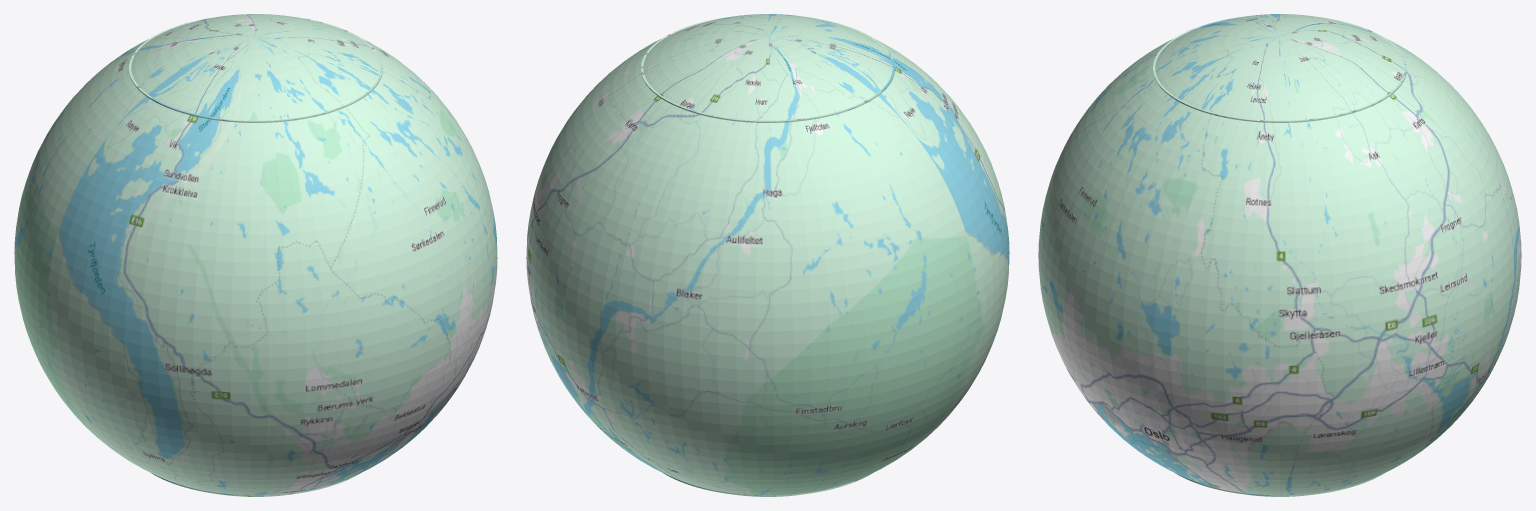
Rendered from RomerikeMap2WrappedSpherical.glb.
3 renders of one model, left to right at view 1: azimuth 30°, elevation 25°; view 2: azimuth 150°, elevation 25°; view 3: azimuth 270°, elevation 25°, orthographic.
Parts seen in each view (by area): view 1: Sphere, Cylinder; view 2: Sphere, Cylinder; view 3: Sphere, Cylinder.
Boxes of the visible parts, bbox=[...] form: Sphere: bbox=[14, 14, 497, 496]; Cylinder: bbox=[129, 16, 382, 496]; Sphere: bbox=[526, 14, 1009, 496]; Cylinder: bbox=[641, 16, 894, 496]; Sphere: bbox=[1038, 14, 1521, 496]; Cylinder: bbox=[1153, 17, 1406, 496].
Size of the model in its own units: 16.79 by 16.79 by 16.79.
Materials: 2 (2 with a texture image).
